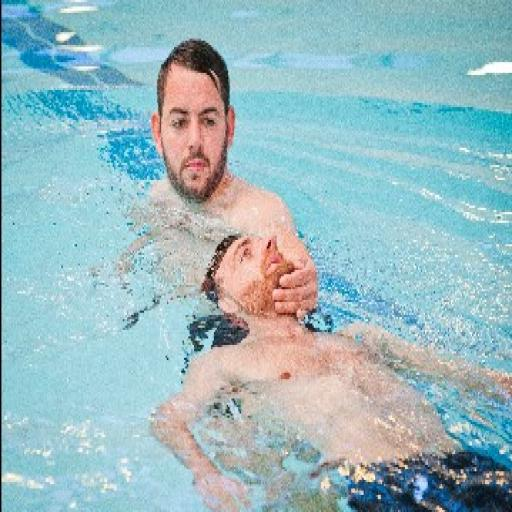swimming: (148, 227, 511, 510)
